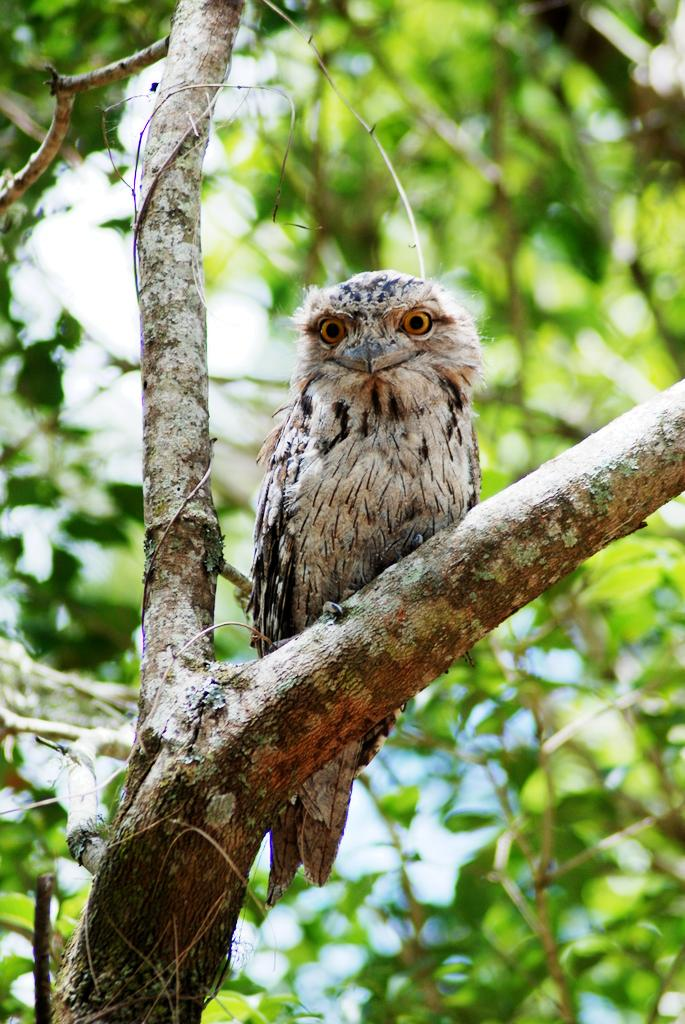Owl: (234, 260, 502, 910)
